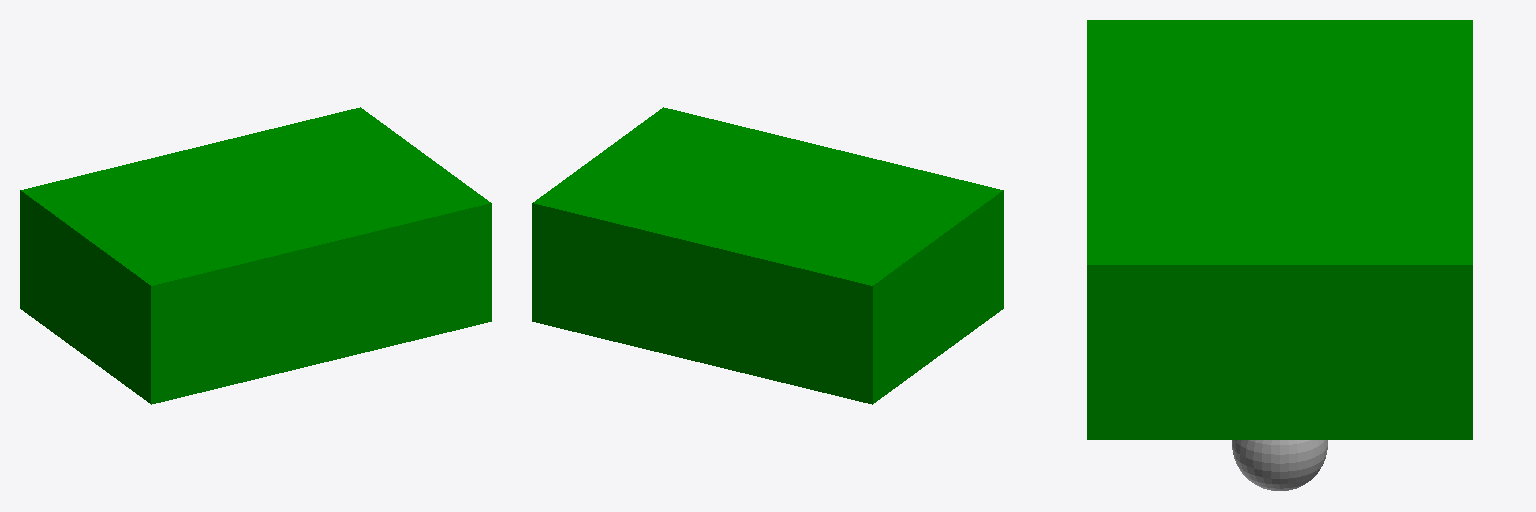
URDF robot description (my_robot):
<?xml version="1.0"?>
<robot name="my_robot">

    <material name="green">
        <color rgba="0 0.6 0 1" />
    </material>

    <material name="gray">
        <color rgba="0.7 0.7 0.7 1" />
    </material>

    <link name="base_footprint" />

    <link name="base_link">
        <visual>
            <geometry>
                <box size="0.6 0.4 0.2" />
            </geometry>
            <origin xyz="0 0 0.1" rpy="0 0 0" />
            <material name="green" />
        </visual>
        <collision>
            <origin xyz="0 0 0.1" rpy="0 0 0" />
            <geometry>
                <box size="0.6 0.4 0.2" />
            </geometry>
        </collision>
        <inertial>
            <origin xyz="0 0 0.1" rpy="0 0 0" />
            <mass value="10" />
            <inertia ixx="0.183" ixy="0" ixz="0" iyy="0.333" iyz="0" izz="0.5" />
        </inertial>
    </link>

    <link name="caster_wheel_link">
        <visual>
            <geometry>
                <sphere radius="0.05" />
            </geometry>
            <origin xyz="0 0 0" rpy="0 0 0" />
            <material name="gray" />
        </visual>
        <collision>
            <origin xyz="0 0 0" rpy="0 0 0" />
            <geometry>
                <sphere radius="0.05" />
            </geometry>
        </collision>
        <inertial>
            <origin xyz="0 0 0" rpy="0 0 0" />
            <mass value="1.0" />
            <inertia ixx="0.001" ixy="0" ixz="0" iyy="0.001" iyz="0" izz="0.001" />
        </inertial>
    </link>

    <joint name="base_caster_wheel_joint" type="fixed">
        <parent link="base_link" />
        <child link="caster_wheel_link" />
        <origin xyz="0.2 0 -0.05" rpy="0 0 0" />
    </joint>

    <joint name="base_joint" type="fixed">
        <parent link="base_footprint" />
        <child link="base_link" />
        <origin xyz="0 0 0.1" rpy="0 0 0" />
    </joint>

</robot>

--- What the picture shows (computed from the rendered views, not written in the file) ---
Views: 3 orthographic renders of the robot side by side, from view 1: azimuth 30°, elevation 25°; view 2: azimuth 150°, elevation 25°; view 3: azimuth 270°, elevation 25°.
Model my_robot with 3 links and 2 joints (2 fixed), rooted at base_footprint, posed all joints at 0.
Visible links, largest first — view 1: base_link; view 2: base_link; view 3: base_link, caster_wheel_link.
Link boxes in pixels (x1,y1,x2,y2): base_link: (20,107,491,404); base_link: (532,107,1003,404); base_link: (1087,20,1472,439); caster_wheel_link: (1232,440,1327,490).
Bounding box of the posed robot: 0.6 × 0.4 × 0.3 m (x, y, z).
Geometry: primitives only (box / cylinder / sphere), no mesh files.